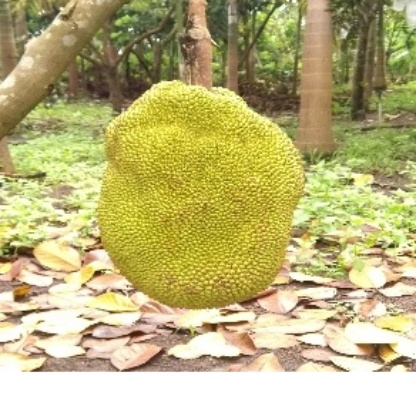mit: (94, 61, 301, 305)
